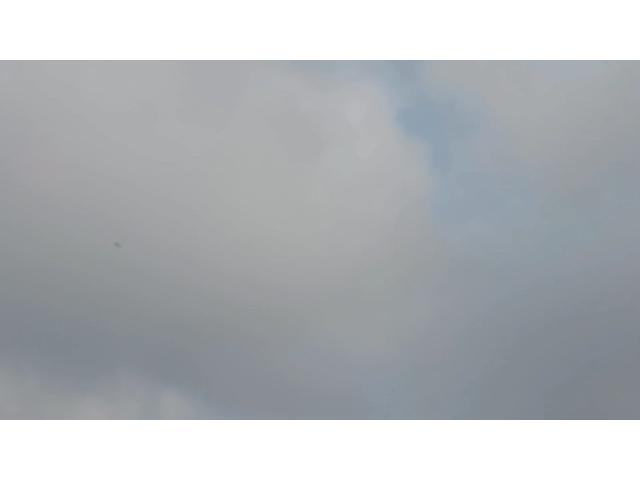Anti-Drone: (112, 241, 124, 250)
